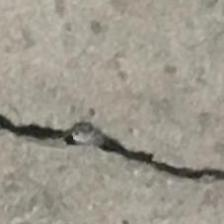Crack: (0, 82, 224, 199)
